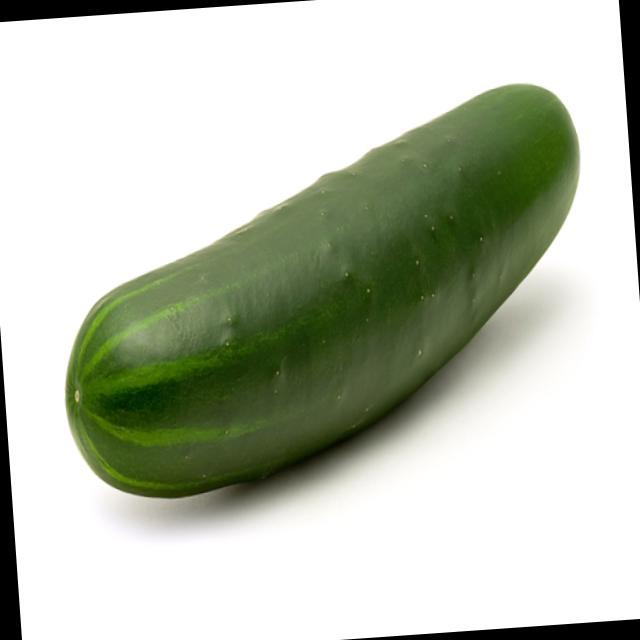Cucumber: (5, 58, 621, 521)
